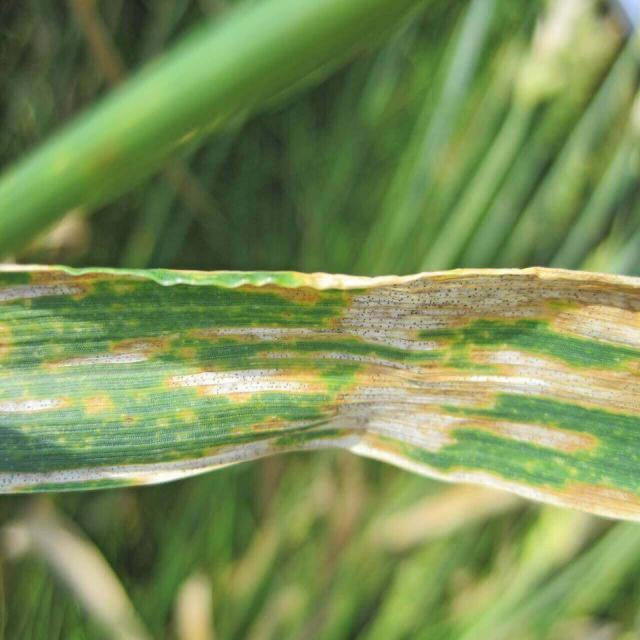wheat-septoria: (0, 264, 640, 528)
